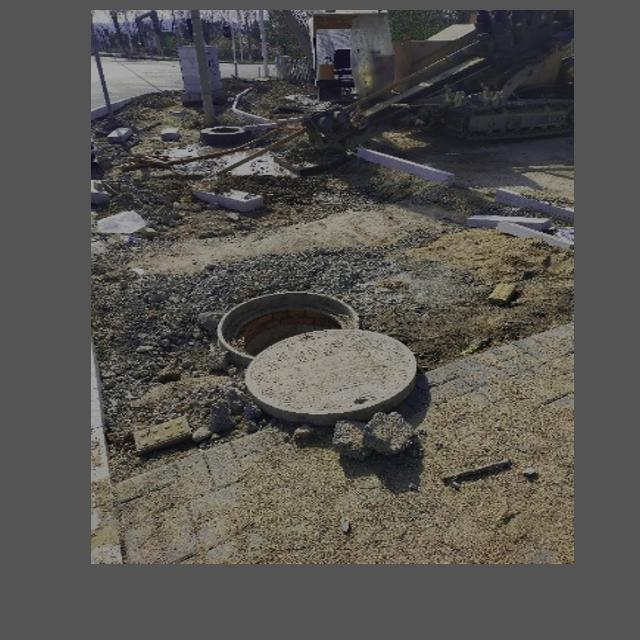uncovered: (216, 288, 417, 422)
